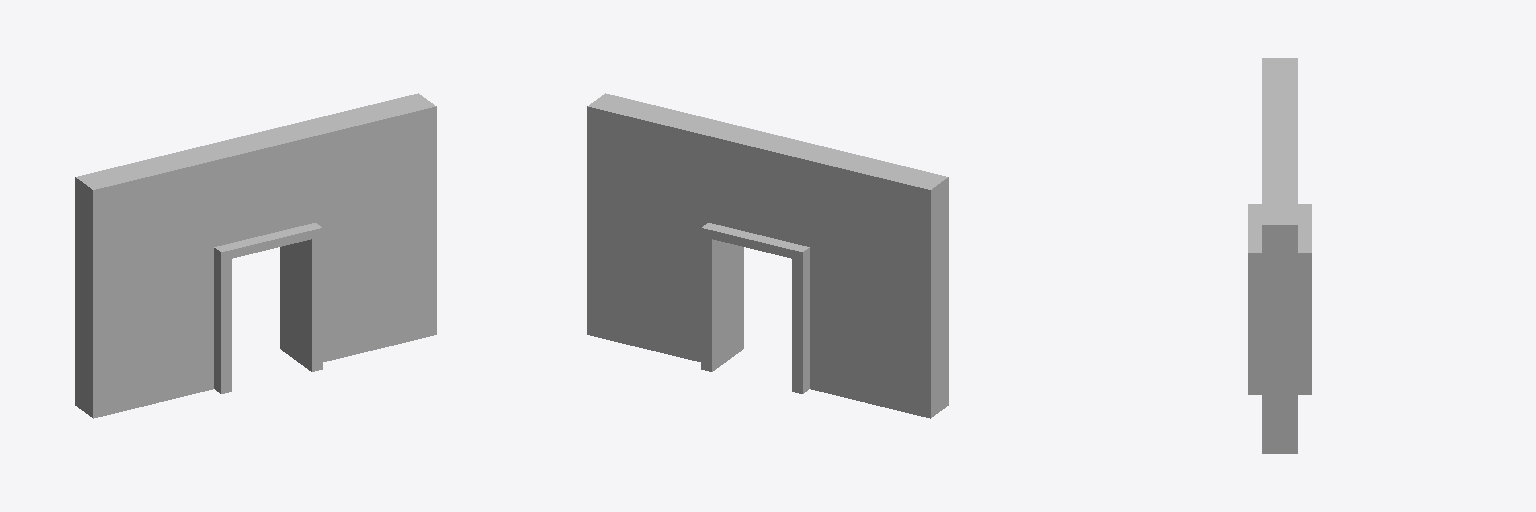
The model's file is doorway.obj.
3 renders of one model, left to right at view 1: azimuth 30°, elevation 25°; view 2: azimuth 150°, elevation 25°; view 3: azimuth 270°, elevation 25°, orthographic.
Size of the model in its own units: 11 by 7 by 1.78.